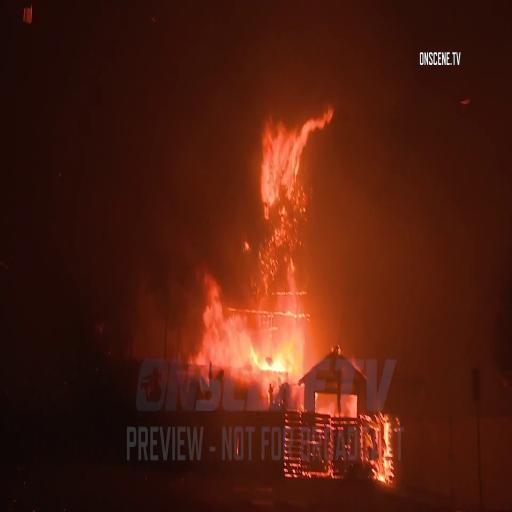fire: (184, 262, 300, 372), (258, 118, 318, 204), (356, 403, 395, 483)
